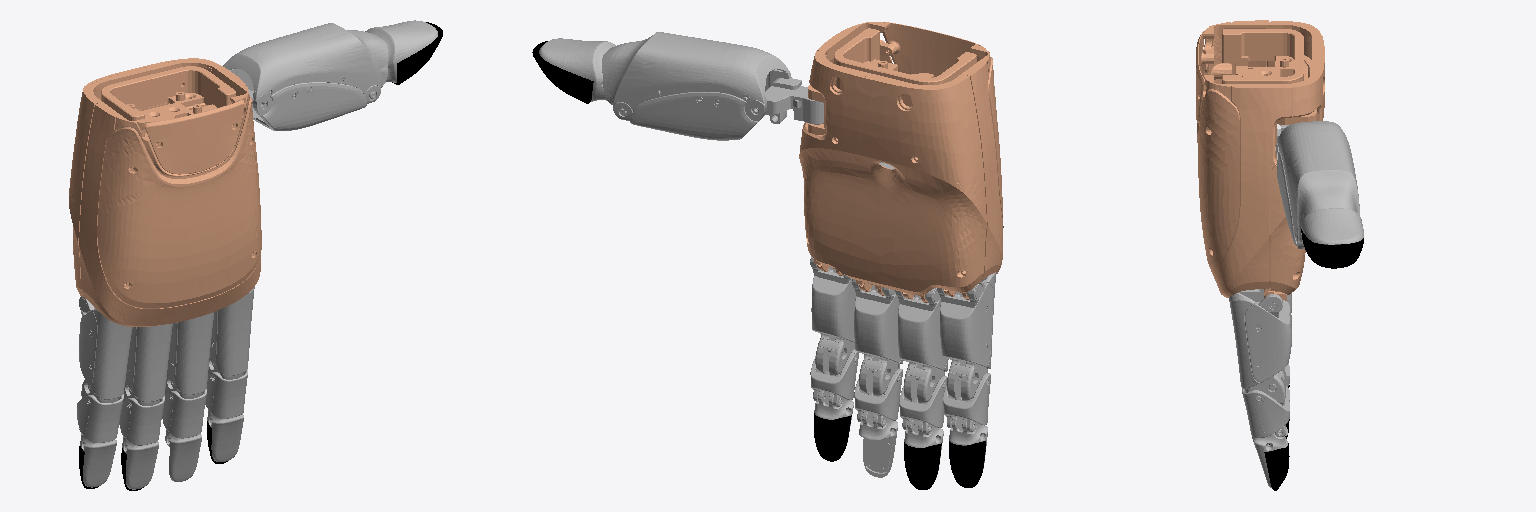
URDF robot description (DexH15_right_urdf):
<?xml version='1.0' encoding='utf-8'?>
<robot name="DexH15_right_urdf">
  <link name="right_palm_link">
    <inertial>
      <origin xyz="-0.00020 -0.00189 -0.002086" rpy="0 0 0" />
      <mass value="0.135107991792189" />
      <inertia ixx="0.000104586195589104" ixy="-7.69247535687096E-07" ixz="7.40748557911378E-07" iyy="0.000155919452392787" iyz="8.26004714728308E-06" izz="9.38212087981561E-05" />
    </inertial>
    <visual>
      <origin xyz="0 0 0" rpy="0 0 0" />
      <geometry>
        <mesh filename="right_palm_link.STL" />
      </geometry>
      <material name="">
        <color rgba="0.929411764705882 0.705882352941176 0.568627450980392 1" />
      </material>
    </visual>
    </link>
  <link name="right_index_camera_link_0">
    <inertial>
      <origin xyz="1.22991894446756E-15 -0.00464735006297745 -0.000127071500931247" rpy="0 0 0" />
      <mass value="0.000654042467848703" />
      <inertia ixx="9.12315073908897E-09" ixy="5.48352408402316E-22" ixz="2.59844351388063E-23" iyy="1.19134649754253E-08" iyz="-5.87163576825394E-10" izz="8.60499726201905E-09" />
    </inertial>
    <visual>
      <origin xyz="0 0 0" rpy="0 0 0" />
      <geometry>
        <mesh filename="right_index_camera_link_0.STL" />
      </geometry>
      <material name="">
        <color rgba="1 1 1 1" />
      </material>
    </visual>
    </link>
  <joint name="right_index_camera_joint_0" type="fixed">
    <origin xyz="-0.00451373698510787 0.0201 -0.03511" rpy="-0.833566385941898 0 0" />
    <parent link="right_palm_link" />
    <child link="right_index_camera_link_0" />
    <axis xyz="0 0 0" />
  </joint>
  <link name="right_thumb_link_0">
    <inertial>
      <origin xyz="0.00936421691659303 -0.000527984669156038 -0.0012925473818792" rpy="0 0 0" />
      <mass value="0.00353937846860913" />
      <inertia ixx="1.62410741560842E-07" ixy="2.05956316077303E-08" ixz="-6.98381467032409E-08" iyy="3.5679101786101E-07" iyz="8.11855185210381E-09" izz="2.44588206875657E-07" />
    </inertial>
    <visual>
      <origin xyz="0 0 0" rpy="0 0 0" />
      <geometry>
        <mesh filename="right_thumb_link_0.STL" />
      </geometry>
      <material name="">
        <color rgba="0.752941176470588 0.752941176470588 0.752941176470588 1" />
      </material>
    </visual>
    </link>
  <joint name="right_thumb_joint_0" type="revolute">
    <origin xyz="0.03002 0.01833 -0.01781" rpy="-1.5708 0 0" />
    <parent link="right_palm_link" />
    <child link="right_thumb_link_0" />
    <axis xyz="0 -1 0" />
    <limit lower="0" upper="1.9129" effort="0" velocity="0" />
  </joint>
  <link name="right_thumb_link_1">
    <inertial>
      <origin xyz="0.0314593350748727 0.00518562216499822 4.30852626326205E-05" rpy="0 0 0" />
      <mass value="0.0186695439237475" />
      <inertia ixx="2.78066115760517E-06" ixy="-6.25555209934524E-07" ixz="-2.18825203509215E-08" iyy="7.13516407242001E-06" iyz="-1.81704551251078E-09" izz="5.83821189328892E-06" />
    </inertial>
    <visual>
      <origin xyz="0 0 0" rpy="0 0 0" />
      <geometry>
        <mesh filename="right_thumb_link_1.STL" />
      </geometry>
      <material name="">
        <color rgba="0.752941176470588 0.752941176470588 0.752941176470588 1" />
      </material>
    </visual>
    </link>
  <joint name="right_thumb_joint_1" type="revolute">
    <origin xyz="0.021356 -0.0015 0.0024841" rpy="0 -0.11491 0" />
    <parent link="right_thumb_link_0" />
    <child link="right_thumb_link_1" />
    <axis xyz="0 0 1" />
    <limit lower="0" upper="1.5184" effort="0" velocity="0" />
  </joint>
  <link name="right_thumb_link_2">
    <inertial>
      <origin xyz="0.013872849340888 -0.00925478190616691 -0.000248339224051418" rpy="0 0 0" />
      <mass value="0.00850316079345236" />
      <inertia ixx="5.9505518483459E-07" ixy="1.74249608727136E-07" ixz="-1.71739321706732E-08" iyy="1.26324188750378E-06" iyz="-3.42732295383559E-09" izz="1.20339035485985E-06" />
    </inertial>
    <visual>
      <origin xyz="0 0 0" rpy="0 0 0" />
      <geometry>
        <mesh filename="right_thumb_link_2.STL" />
      </geometry>
      <material name="">
        <color rgba="0.752941176470588 0.752941176470588 0.752941176470588 1" />
      </material>
    </visual>
    </link>
  <joint name="right_thumb_joint_2" type="revolute">
    <origin xyz="0.06029 0.0125 -1.91E-05" rpy="0 0 -0.17453" />
    <parent link="right_thumb_link_1" />
    <child link="right_thumb_link_2" />
    <axis xyz="0 0 1" />
    <limit lower="0" upper="2.0944" effort="0" velocity="0" />
  </joint>
  <link name="right_thumb_tactile_link_0">
    <inertial>
      <origin xyz="-5.69119586448993E-07 0.00725267874298827 0.00384771526093473" rpy="0 0 0" />
      <mass value="0.00728796573180342" />
      <inertia ixx="6.31335927717884E-07" ixy="2.89457363622682E-11" ixz="3.12272541529654E-11" iyy="4.14819807467411E-07" iyz="-2.36493306619516E-08" izz="8.00774281859433E-07" />
    </inertial>
    <visual>
      <origin xyz="0 0 0" rpy="0 0 0" />
      <geometry>
        <mesh filename="right_thumb_tactile_link_0.STL" />
      </geometry>
      <material name="">
        <color rgba="0 0 0 1" />
      </material>
    </visual>
    </link>
  <joint name="right_thumb_tactile_joint_0" type="fixed">
    <origin xyz="0.019356 -0.0056462 0" rpy="1.4314 -1.5708 -3.1415" />
    <parent link="right_thumb_link_2" />
    <child link="right_thumb_tactile_link_0" />
    <axis xyz="0 0 0" />
  </joint>
  <link name="right_index_link_0">
    <inertial>
      <origin xyz="0.0204566798403885 -0.00340394105744322 0.000106728035644002" rpy="0 0 0" />
      <mass value="0.00775076081804147" />
      <inertia ixx="3.44452724545479E-07" ixy="-4.78355558605564E-08" ixz="2.17143075126767E-08" iyy="1.38929119520555E-06" iyz="-3.23578397866081E-10" izz="1.28696059253806E-06" />
    </inertial>
    <visual>
      <origin xyz="0 0 0" rpy="0 0 0" />
      <geometry>
        <mesh filename="right_index_link_0.STL" />
      </geometry>
      <material name="">
        <color rgba="0.752941176470588 0.752941176470588 0.752941176470588 1" />
      </material>
    </visual>
    </link>
  <joint name="right_index_joint_0" type="revolute">
    <origin xyz="0.0302 0.00423 -0.09413" rpy="0 1.5533 0" />
    <parent link="right_palm_link" />
    <child link="right_index_link_0" />
    <axis xyz="0 0 1" />
    <limit lower="0" upper="1.3962" effort="0" velocity="0" />
  </joint>
  <link name="right_index_link_1">
    <inertial>
      <origin xyz="0.00863658912229184 0.00390662260254431 0.000178232799969938" rpy="0 0 0" />
      <mass value="0.00147411311776174" />
      <inertia ixx="8.50508069874372E-08" ixy="-9.90007558120046E-09" ixz="1.36909304402037E-10" iyy="8.83249626297202E-08" iyz="3.83385953896828E-10" izz="7.42503766938353E-08" />
    </inertial>
    <visual>
      <origin xyz="0 0 0" rpy="0 0 0" />
      <geometry>
        <mesh filename="right_index_link_1.STL" />
      </geometry>
      <material name="">
        <color rgba="0.752941176470588 0.752941176470588 0.752941176470588 1" />
      </material>
    </visual>
    </link>
  <joint name="right_index_joint_1" type="revolute">
    <origin xyz="0.04392915363646 -0.00596952380563201 -4.99999999999945E-05" rpy="0 0 0" />
    <parent link="right_index_link_0" />
    <child link="right_index_link_1" />
    <axis xyz="0 0 1" />
    <limit lower="0" upper="1.4242" effort="0" velocity="0" />
  </joint>
  <link name="right_index_link_2">
    <inertial>
      <origin xyz="0.00544463264270352 -0.00571994916017481 3.87072064990564E-05" rpy="0 0 0" />
      <mass value="0.00192056389934334" />
      <inertia ixx="4.49524580735319E-08" ixy="6.91021862584258E-09" ixz="4.37461010862228E-10" iyy="1.34518302376392E-07" iyz="1.97365670337091E-10" izz="1.26184975181792E-07" />
    </inertial>
    <visual>
      <origin xyz="0 0 0" rpy="0 0 0" />
      <geometry>
        <mesh filename="right_index_link_2.STL" />
      </geometry>
      <material name="">
        <color rgba="0.752941176470588 0.752941176470588 0.752941176470588 1" />
      </material>
    </visual>
    </link>
  <joint name="right_index_joint_2" type="revolute">
    <origin xyz="0.016724 0.0091327 5E-05" rpy="0 0 0" />
    <parent link="right_index_link_1" />
    <child link="right_index_link_2" />
    <axis xyz="0 0 1" />
    <limit lower="0" upper="1.3265" effort="0" velocity="0" />
  </joint>
  <link name="right_index_tactile_link_0">
    <inertial>
      <origin xyz="-7.15100412839245E-06 0.00766638584209177 0.00153149297635188" rpy="0 0 0" />
      <mass value="0.00158521757996334" />
      <inertia ixx="5.42387314555164E-08" ixy="2.30095480330116E-11" ixz="2.18106835205775E-11" iyy="3.12164065189363E-08" iyz="3.83024468574558E-10" izz="6.98174123980231E-08" />
    </inertial>
    <visual>
      <origin xyz="0 0 0" rpy="0 0 0" />
      <geometry>
        <mesh filename="right_index_tactile_link_0.STL" />
      </geometry>
      <material name="">
        <color rgba="0 0 0 1" />
      </material>
    </visual>
    </link>
  <joint name="right_index_tactile_joint_0" type="fixed">
    <origin xyz="0.0089007 -0.0022127 0" rpy="-0.20944 -1.5708 -1.396" />
    <parent link="right_index_link_2" />
    <child link="right_index_tactile_link_0" />
    <axis xyz="0 0 0" />
  </joint>
  <link name="right_middle_link_0">
    <inertial>
      <origin xyz="0.0204566818829428 -0.00340391962524049 0.000106767395921498" rpy="0 0 0" />
      <mass value="0.007750772178221" />
      <inertia ixx="3.44450679028759E-07" ixy="-4.78343494228642E-08" ixz="2.17187420665001E-08" iyy="1.38929079085453E-06" iyz="-3.1999754771607E-10" izz="1.28696368873274E-06" />
    </inertial>
    <visual>
      <origin xyz="0 0 0" rpy="0 0 0" />
      <geometry>
        <mesh filename="right_middle_link_0.STL" />
      </geometry>
      <material name="">
        <color rgba="0.752941176470588 0.752941176470588 0.752941176470588 1" />
      </material>
    </visual>
    </link>
  <joint name="right_middle_joint_0" type="revolute">
    <origin xyz="0.010122 0.00423 -0.09862" rpy="0 1.5708 0" />
    <parent link="right_palm_link" />
    <child link="right_middle_link_0" />
    <axis xyz="0 0 1" />
    <limit lower="0" upper="1.3962" effort="0" velocity="0" />
  </joint>
  <link name="right_middle_link_1">
    <inertial>
      <origin xyz="0.00863631796568731 0.0039071445442652 0.000118198818823393" rpy="0 0 0" />
      <mass value="0.0014741245806173" />
      <inertia ixx="8.50531114605136E-08" ixy="-9.90079727011316E-09" ixz="1.36622133199617E-10" iyy="8.83235607260495E-08" iyz="3.82911452729274E-10" izz="7.42511595737248E-08" />
    </inertial>
    <visual>
      <origin xyz="0 0 0" rpy="0 0 0" />
      <geometry>
        <mesh filename="right_middle_link_1.STL" />
      </geometry>
      <material name="">
        <color rgba="0.752941176470588 0.752941176470588 0.752941176470588 1" />
      </material>
    </visual>
    </link>
  <joint name="right_middle_joint_1" type="revolute">
    <origin xyz="0.04392915363646 -0.005969523805632 0" rpy="0 0 0" />
    <parent link="right_middle_link_0" />
    <child link="right_middle_link_1" />
    <axis xyz="0 0 1" />
    <limit lower="0" upper="1.4242" effort="0" velocity="0" />
  </joint>
  <link name="right_middle_link_2">
    <inertial>
      <origin xyz="0.00544522885312974 -0.00571959708458459 3.870581986847E-05" rpy="0 0 0" />
      <mass value="0.00192056278233717" />
      <inertia ixx="4.49511632023778E-08" ixy="6.90206083462684E-09" ixz="4.37482383004285E-10" iyy="1.34519436455462E-07" iyz="1.9740772851189E-10" izz="1.26184829369779E-07" />
    </inertial>
    <visual>
      <origin xyz="0 0 0" rpy="0 0 0" />
      <geometry>
        <mesh filename="right_middle_link_2.STL" />
      </geometry>
      <material name="">
        <color rgba="0.752941176470588 0.752941176470588 0.752941176470588 1" />
      </material>
    </visual>
    </link>
  <joint name="right_middle_joint_2" type="revolute">
    <origin xyz="0.0167237876724677 0.00913388024645703 0" rpy="0 0 0" />
    <parent link="right_middle_link_1" />
    <child link="right_middle_link_2" />
    <axis xyz="0 0 1" />
    <limit lower="0" upper="1.3265" effort="0" velocity="0" />
  </joint>
  <link name="right_middle_tactile_link_0">
    <inertial>
      <origin xyz="0.00785041929166511 0.00292268067662876 -7.15372715284247E-06" rpy="0 0 0" />
      <mass value="0.00158521404490423" />
      <inertia ixx="3.20950465632078E-08" ixy="-5.76991391967991E-09" ixz="1.91586407654352E-11" iyy="6.89385666573219E-08" iyz="2.52285710300149E-11" izz="5.42384676755038E-08" />
    </inertial>
    <visual>
      <origin xyz="0 0 0" rpy="0 0 0" />
      <geometry>
        <mesh filename="right_middle_tactile_link_0.STL" />
      </geometry>
      <material name="">
        <color rgba="0 0 0 1" />
      </material>
    </visual>
    </link>
  <joint name="right_middle_tactile_joint_0" type="fixed">
    <origin xyz="0.0089 -0.002282 0" rpy="-0.20944 -1.5707 -1.396" />
    <parent link="right_middle_link_2" />
    <child link="right_middle_tactile_link_0" />
    <axis xyz="0 0 0" />
  </joint>
  <link name="right_ring_link_0">
    <inertial>
      <origin xyz="0.0204566759998715 -0.00340392811285324 0.000106772324885974" rpy="0 0 0" />
      <mass value="0.00775077755470957" />
      <inertia ixx="3.44451485452443E-07" ixy="-4.78354823066705E-08" ixz="2.17194982343289E-08" iyy="1.38929487102993E-06" iyz="-3.19579709867518E-10" izz="1.28696820924996E-06" />
    </inertial>
    <visual>
      <origin xyz="0 0 0" rpy="0 0 0" />
      <geometry>
        <mesh filename="right_ring_link_0.STL" />
      </geometry>
      <material name="">
        <color rgba="0.752941176470588 0.752941176470588 0.752941176470588 1" />
      </material>
    </visual>
    </link>
  <joint name="right_ring_joint_0" type="revolute">
    <origin xyz="-0.010455 0.00423 -0.09713" rpy="3.1416 1.5533 3.1416" />
    <parent link="right_palm_link" />
    <child link="right_ring_link_0" />
    <axis xyz="0 0 1" />
    <limit lower="0" upper="1.3962" effort="0" velocity="0" />
  </joint>
  <link name="right_ring_link_1">
    <inertial>
      <origin xyz="0.00863639227316165 0.00390725720855701 0.000178124384369907" rpy="0 0 0" />
      <mass value="0.00147411538572404" />
      <inertia ixx="8.50522945253343E-08" ixy="-9.90026582587805E-09" ixz="1.36075830484433E-10" iyy="8.83230269770029E-08" iyz="3.82289138852519E-10" izz="7.42498081527427E-08" />
    </inertial>
    <visual>
      <origin xyz="0 0 0" rpy="0 0 0" />
      <geometry>
        <mesh filename="right_ring_link_1.STL" />
      </geometry>
      <material name="">
        <color rgba="0.752941176470588 0.752941176470588 0.752941176470588 1" />
      </material>
    </visual>
    </link>
  <joint name="right_ring_joint_1" type="revolute">
    <origin xyz="0.04392915363646 -0.005969523805632 -4.99999999999962E-05" rpy="0 0 0" />
    <parent link="right_ring_link_0" />
    <child link="right_ring_link_1" />
    <axis xyz="0 0 1" />
    <limit lower="0" upper="1.4242" effort="0" velocity="0" />
  </joint>
  <link name="right_ring_link_2">
    <inertial>
      <origin xyz="0.00544523126977781 -0.00571959544632963 3.87050605735774E-05" rpy="0 0 0" />
      <mass value="0.00192056331217887" />
      <inertia ixx="4.4951181897581E-08" ixy="6.90204644918302E-09" ixz="4.3751928181978E-10" iyy="1.34519485194743E-07" iyz="1.97405832033945E-10" izz="1.26184880379989E-07" />
    </inertial>
    <visual>
      <origin xyz="0 0 0" rpy="0 0 0" />
      <geometry>
        <mesh filename="right_ring_link_2.STL" />
      </geometry>
      <material name="">
        <color rgba="0.752941176470588 0.752941176470588 0.752941176470588 1" />
      </material>
    </visual>
    </link>
  <joint name="right_ring_joint_2" type="revolute">
    <origin xyz="0.0167237873015873 0.00913388092552479 4.9999999999998E-05" rpy="0 0 0" />
    <parent link="right_ring_link_1" />
    <child link="right_ring_link_2" />
    <axis xyz="0 0 1" />
    <limit lower="0" upper="1.3265" effort="0" velocity="0" />
  </joint>
  <link name="right_ring_tactile_link_0">
    <inertial>
      <origin xyz="-7.15640375705678E-06 0.00766631872729323 0.00153146898895024" rpy="0 0 0" />
      <mass value="0.00158520981987023" />
      <inertia ixx="5.42381913416579E-08" ixy="2.29309619906004E-11" ixz="2.18194053478983E-11" iyy="3.12163523326913E-08" iyz="3.83299619943428E-10" izz="6.98170353614144E-08" />
    </inertial>
    <visual>
      <origin xyz="0 0 0" rpy="0 0 0" />
      <geometry>
        <mesh filename="right_ring_tactile_link_0.STL" />
      </geometry>
      <material name="">
        <color rgba="0 0 0 1" />
      </material>
    </visual>
    </link>
  <joint name="right_ring_tactile_joint_0" type="fixed">
    <origin xyz="0.008901 -0.0022121 0" rpy="-0.20944 -1.5708 -1.396" />
    <parent link="right_ring_link_2" />
    <child link="right_ring_tactile_link_0" />
    <axis xyz="0 0 0" />
  </joint>
  <link name="right_pinky_link_0">
    <inertial>
      <origin xyz="0.0204566320849562 -0.00340397932705835 0.000106758481168662" rpy="0 0 0" />
      <mass value="0.00775080799697266" />
      <inertia ixx="3.4445516764241E-07" ixy="-4.78396126326604E-08" ixz="2.17210475191001E-08" iyy="1.38930238641114E-06" iyz="-3.20698354988118E-10" izz="1.28697725756875E-06" />
    </inertial>
    <visual>
      <origin xyz="0 0 0" rpy="0 0 0" />
      <geometry>
        <mesh filename="right_pinky_link_0.STL" />
      </geometry>
      <material name="">
        <color rgba="0.752941176470588 0.752941176470588 0.752941176470588 1" />
      </material>
    </visual>
    </link>
  <joint name="right_pinky_joint_0" type="revolute">
    <origin xyz="-0.0302455433199348 0.00423 -0.09115" rpy="3.14159265358979 1.53101985492551 3.14159265358979" />
    <parent link="right_palm_link" />
    <child link="right_pinky_link_0" />
    <axis xyz="0 0 1" />
    <limit lower="0" upper="1.3962" effort="0" velocity="0" />
  </joint>
  <link name="right_pinky_link_1">
    <inertial>
      <origin xyz="0.0086367190942447 0.00390674254317849 0.000178100520830515" rpy="0 0 0" />
      <mass value="0.00147410502769596" />
      <inertia ixx="8.50500055441173E-08" ixy="-9.8993109245728E-09" ixz="1.35964210268015E-10" iyy="8.83240858577245E-08" iyz="3.81817891969922E-10" izz="7.42486018043892E-08" />
    </inertial>
    <visual>
      <origin xyz="0 0 0" rpy="0 0 0" />
      <geometry>
        <mesh filename="right_pinky_link_1.STL" />
      </geometry>
      <material name="">
        <color rgba="0.752941176470588 0.752941176470588 0.752941176470588 1" />
      </material>
    </visual>
    </link>
  <joint name="right_pinky_joint_1" type="revolute">
    <origin xyz="0.04392915363646 -0.005969523805632 -5.00000000000014E-05" rpy="0 0 0" />
    <parent link="right_pinky_link_0" />
    <child link="right_pinky_link_1" />
    <axis xyz="0 0 1" />
    <limit lower="0" upper="1.4242" effort="0" velocity="0" />
  </joint>
  <link name="right_pinky_link_2">
    <inertial>
      <origin xyz="0.00544527710274111 -0.00572113006438069 3.87074165105021E-05" rpy="0 0 0" />
      <mass value="0.00192056391260119" />
      <inertia ixx="4.49524581563179E-08" ixy="6.91022643879277E-09" ixz="4.37452150219782E-10" iyy="1.34518321540256E-07" iyz="1.97366290977812E-10" izz="1.2618499410813E-07" />
    </inertial>
    <visual>
      <origin xyz="0 0 0" rpy="0 0 0" />
      <geometry>
        <mesh filename="right_pinky_link_2.STL" />
      </geometry>
      <material name="">
        <color rgba="0.752941176470588 0.752941176470588 0.752941176470588 1" />
      </material>
    </visual>
    </link>
  <joint name="right_pinky_joint_2" type="revolute">
    <origin xyz="0.0167237879375845 0.00913387976103822 5.00000000000014E-05" rpy="0 0 0" />
    <parent link="right_pinky_link_1" />
    <child link="right_pinky_link_2" />
    <axis xyz="0 0 1" />
    <limit lower="0" upper="1.3265" effort="0" velocity="0" />
  </joint>
  <link name="right_pinky_tactile_link_0">
    <inertial>
      <origin xyz="-7.18918515098602E-06 0.00766631609267261 0.00153147811560624" rpy="0 0 0" />
      <mass value="0.00158523246085631" />
      <inertia ixx="5.42383147209828E-08" ixy="2.29743170653397E-11" ixz="2.18736088196047E-11" iyy="3.12168084014964E-08" iyz="3.8346057803497E-10" izz="6.98175159321323E-08" />
    </inertial>
    <visual>
      <origin xyz="0 0 0" rpy="0 0 0" />
      <geometry>
        <mesh filename="right_pinky_tactile_link_0.STL" />
      </geometry>
      <material name="">
        <color rgba="0 0 0 1" />
      </material>
    </visual>
    </link>
  <joint name="right_pinky_tactile_joint_0" type="fixed">
    <origin xyz="0.0089013 -0.0022139 0" rpy="-0.20944 -1.5708 -1.396" />
    <parent link="right_pinky_link_2" />
    <child link="right_pinky_tactile_link_0" />
    <axis xyz="0 0 0" />
  </joint>
<mujoco><compiler meshdir="/opt/models/right/meshes" strippath="true" discardvisual="false" fusestatic="false" balanceinertia="true" boundmass="0.000001" boundinertia="0.000000001" /></mujoco></robot>

--- What the picture shows (computed from the rendered views, not written in the file) ---
3 views of the same robot in one strip: view 1: azimuth 30°, elevation 25°; view 2: azimuth 150°, elevation 25°; view 3: azimuth 270°, elevation 25° (orthographic).
Model DexH15_right_urdf with 22 links and 21 joints (15 revolute, 6 fixed), rooted at right_palm_link, posed every joint at zero.
Links seen in each view (by area): view 1: right_palm_link, right_thumb_link_1, right_pinky_link_0, right_middle_link_0, right_ring_link_0, right_index_link_0, right_thumb_link_2, right_pinky_link_1, right_ring_link_1, right_middle_link_1, right_index_link_1, right_pinky_link_2 (+4 smaller); view 2: right_palm_link, right_thumb_link_1, right_pinky_link_0, right_ring_link_0, right_middle_link_0, right_index_link_0, right_thumb_link_2, right_thumb_link_0, right_middle_link_2, right_pinky_link_1, right_middle_link_1, right_index_link_1 (+8 smaller); view 3: right_palm_link, right_thumb_link_1, right_index_link_0, right_thumb_link_2, right_index_link_1, right_thumb_tactile_link_0, right_index_tactile_link_0, right_index_link_2.
Link boxes in pixels (x1,y1,x2,y2): right_palm_link: (69, 58, 261, 326); right_thumb_link_1: (223, 23, 387, 130); right_pinky_link_0: (79, 296, 132, 402); right_middle_link_0: (165, 312, 213, 398); right_ring_link_0: (123, 323, 172, 405); right_index_link_0: (208, 287, 254, 379); right_thumb_link_2: (365, 20, 437, 98); right_pinky_link_1: (77, 394, 123, 442); right_ring_link_1: (119, 396, 164, 445); right_middle_link_1: (162, 389, 206, 438); right_index_link_1: (205, 369, 247, 418); right_pinky_link_2: (80, 433, 116, 487); right_palm_link: (799, 22, 1003, 302); right_thumb_link_1: (602, 32, 791, 140); right_pinky_link_0: (937, 272, 995, 400); right_ring_link_0: (895, 288, 948, 402); right_middle_link_0: (852, 279, 903, 395); right_index_link_0: (810, 256, 855, 374); right_thumb_link_2: (539, 38, 626, 115); right_thumb_link_0: (756, 78, 823, 124); right_middle_link_2: (859, 392, 897, 477); right_pinky_link_1: (943, 373, 990, 432); right_middle_link_1: (854, 369, 902, 427); right_index_link_1: (810, 349, 858, 406); right_palm_link: (1196, 20, 1324, 300); right_thumb_link_1: (1276, 121, 1359, 248); right_index_link_0: (1229, 289, 1291, 404); right_thumb_link_2: (1296, 208, 1363, 244); right_index_link_1: (1242, 388, 1289, 437); right_thumb_tactile_link_0: (1301, 229, 1363, 268); right_index_tactile_link_0: (1264, 443, 1289, 490); right_index_link_2: (1252, 425, 1287, 487).
Size in the robot's own frame: 0.199 by 0.072 by 0.1931 metres.
Meshes: 22 distinct files referenced, 21 mesh visuals loaded (21 binary STL); not drawn: 1 (reference not matched to a file when rendering).
